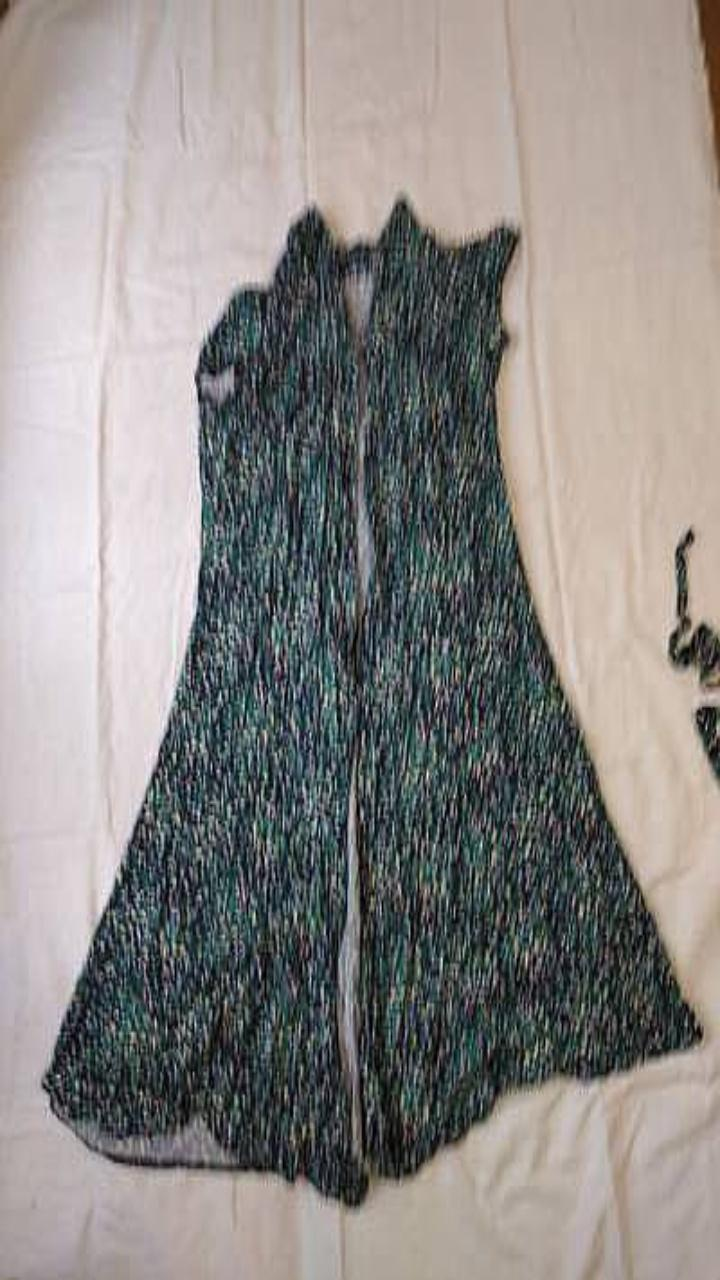Dresses: (43, 196, 701, 1202)
